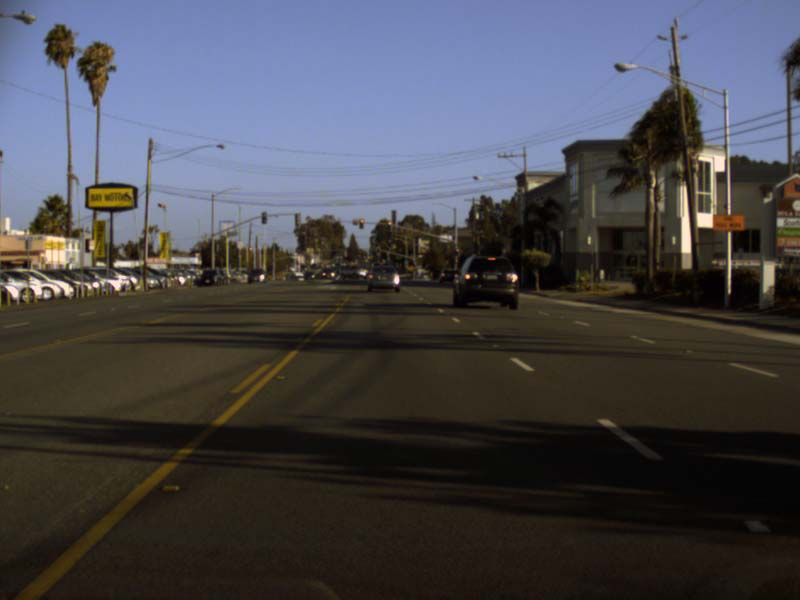Red: (358, 217, 364, 229), (387, 221, 391, 230), (454, 248, 458, 255)
